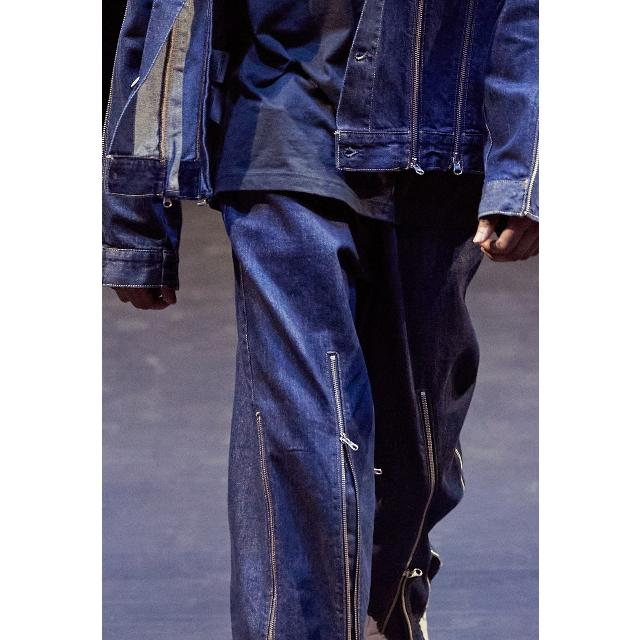denim: (101, 0, 538, 640)
